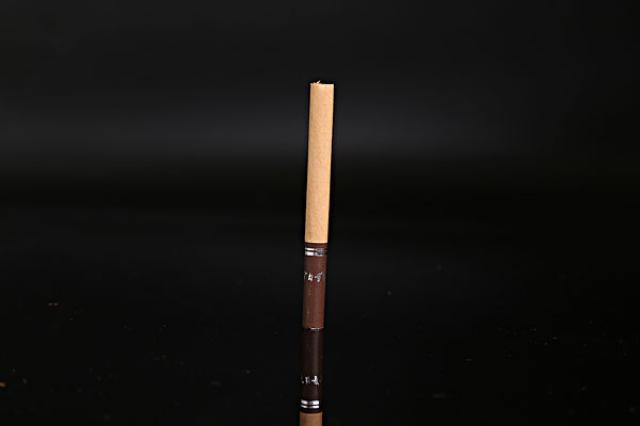Smoking: (295, 75, 343, 331)
